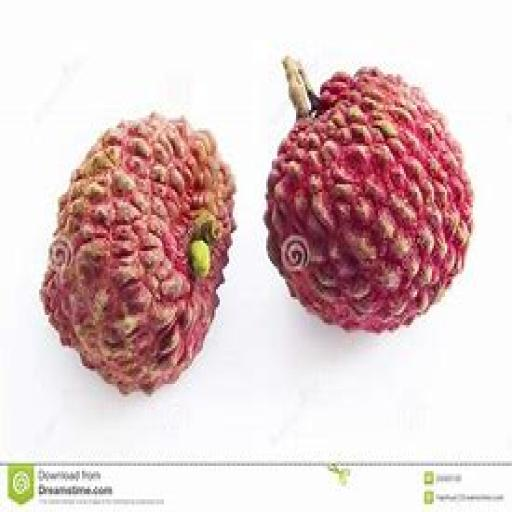lychee: (265, 59, 472, 332), (41, 116, 234, 391)
